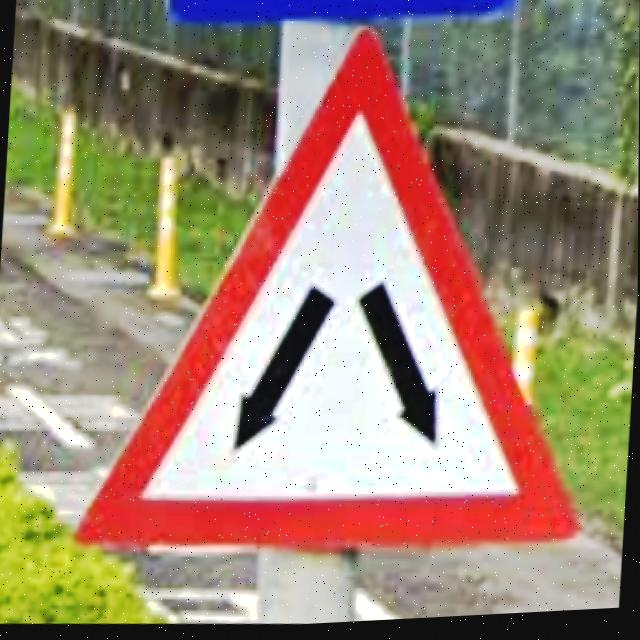diverge: (76, 32, 582, 559)
